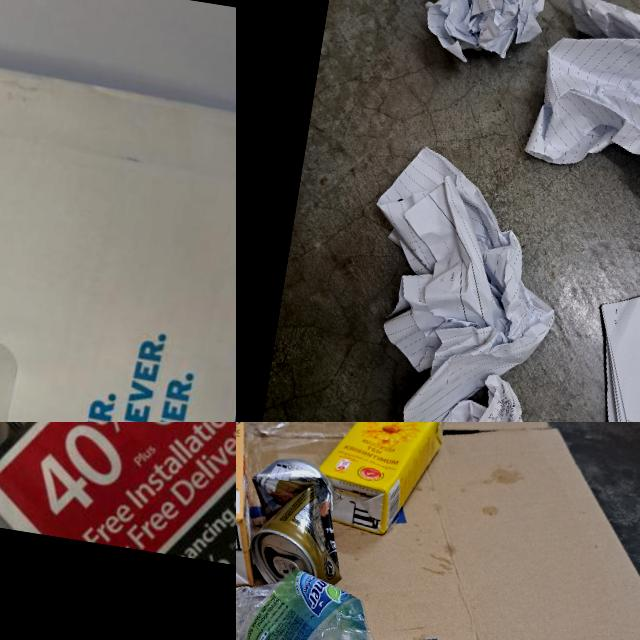aba de lata: (272, 556, 302, 578)
caixinha: (310, 422, 449, 543), (236, 422, 281, 596)
garrafa plástica: (236, 552, 396, 640)
lata: (238, 454, 360, 594)
papel: (0, 11, 236, 422), (337, 137, 617, 422), (0, 422, 236, 616), (522, 0, 640, 230), (575, 133, 640, 422), (413, 0, 555, 75)
papelão: (236, 422, 640, 640)
